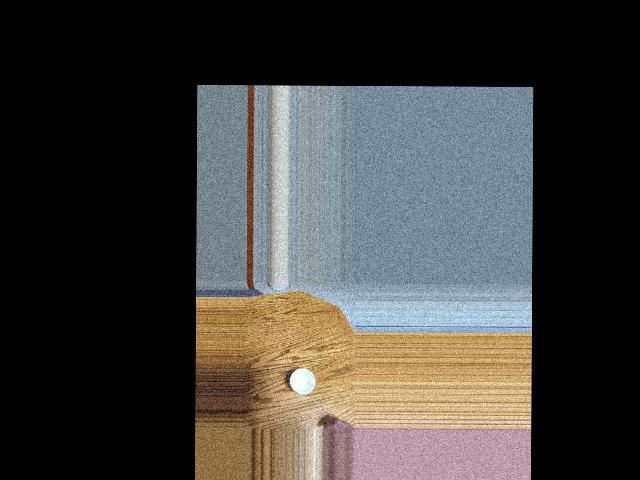cotage: (290, 367, 318, 397)
